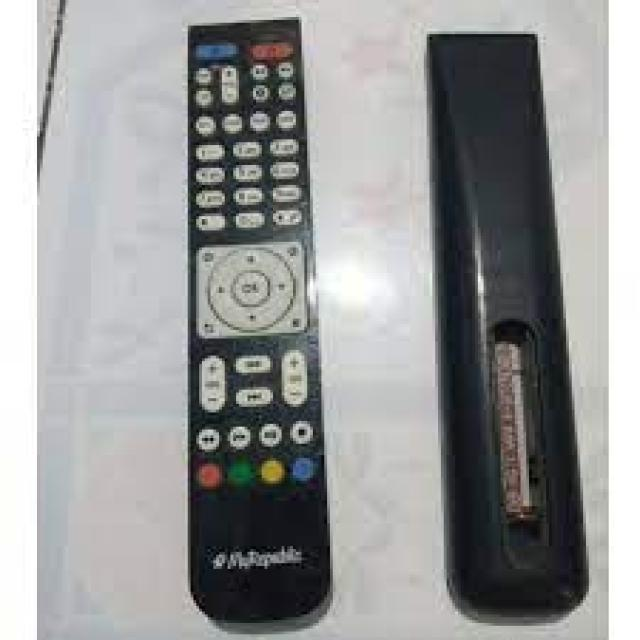remote: (430, 34, 596, 620), (190, 18, 332, 635)
